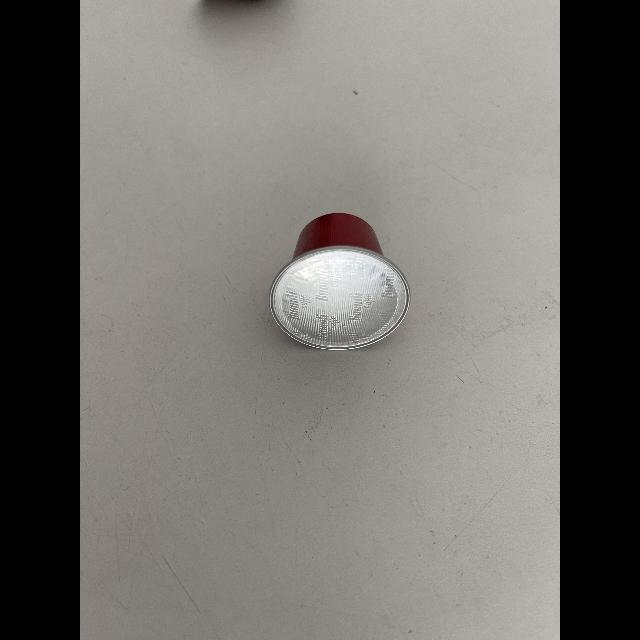intact_capsule: (263, 200, 419, 360)
